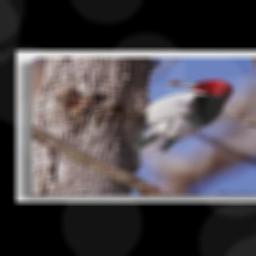Woodpecker: (132, 79, 234, 151)
